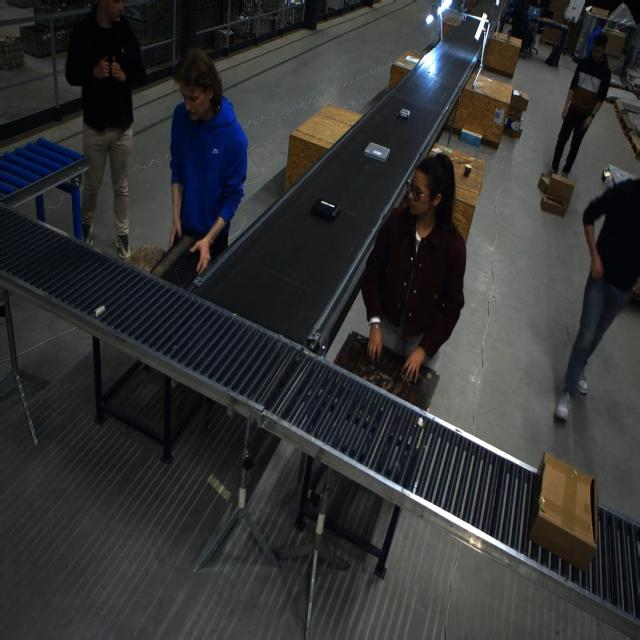box: (526, 455, 598, 571), (134, 227, 210, 289), (538, 172, 574, 216), (600, 28, 627, 57), (508, 87, 529, 116), (503, 117, 523, 139)
product: (310, 197, 340, 222), (363, 142, 389, 162), (398, 108, 410, 120)
